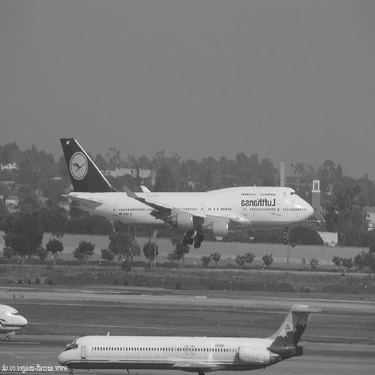airplane: (39, 118, 333, 247), (50, 306, 330, 365)
